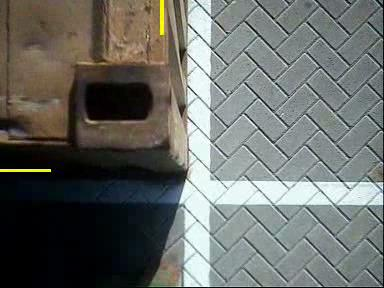groundmarker_2: (197, 186, 253, 255)
